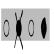correct: (40, 16, 47, 41)
not correct: (14, 9, 24, 52)
